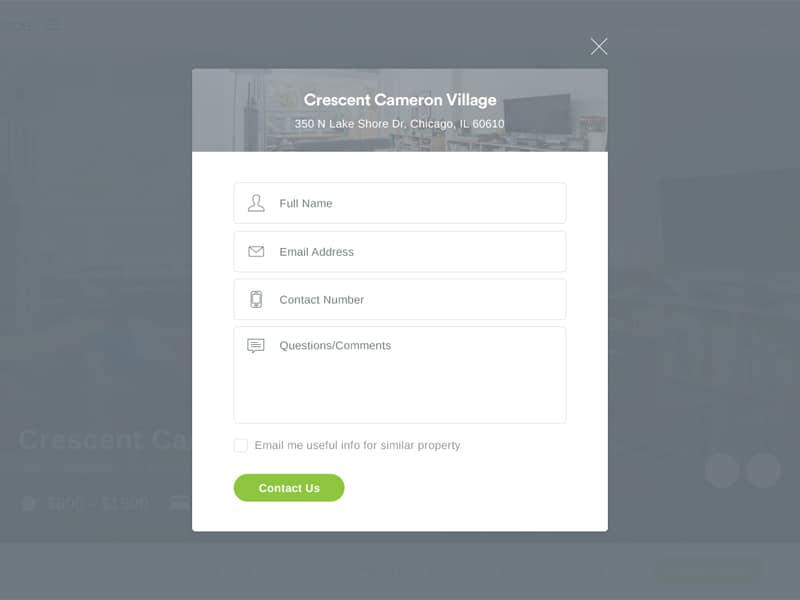_form_: (196, 109, 612, 525)
button: (234, 472, 343, 502)
checkbox: (232, 438, 248, 452)
checkbox_with_label: (231, 437, 457, 453)
field: (232, 326, 567, 425), (233, 181, 567, 224), (233, 278, 567, 321), (233, 231, 568, 273)
